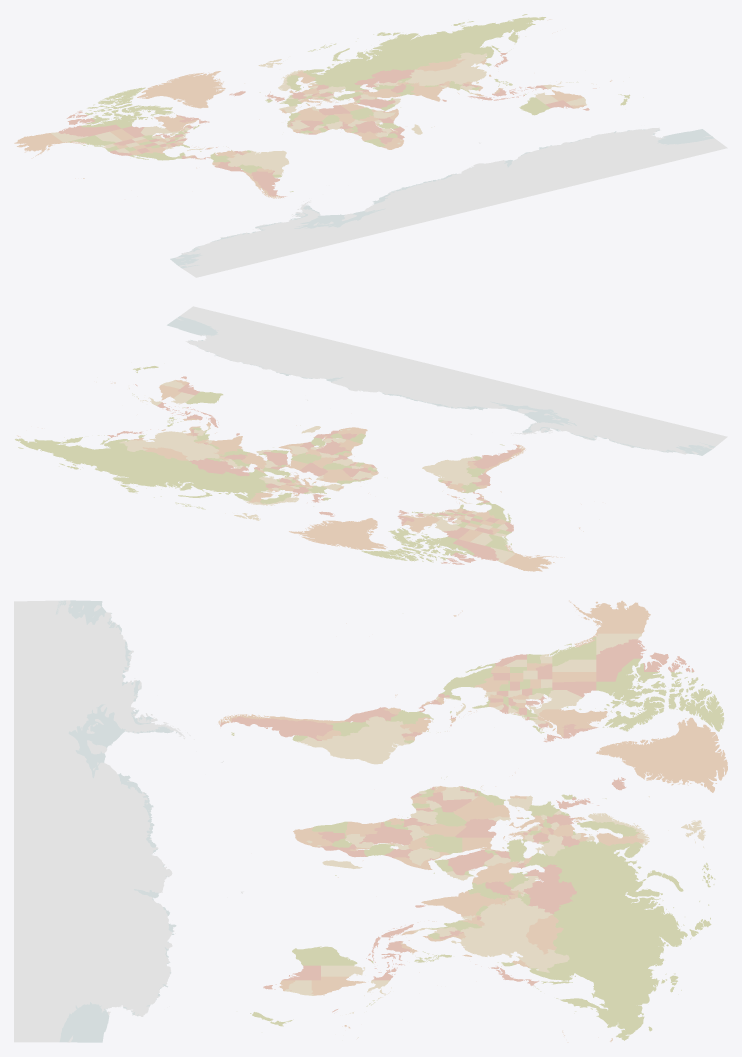
File: world.fbx
The picture shows the model from 3 angles, top to bottom: view 1: azimuth 30°, elevation 25°; view 2: azimuth 150°, elevation 25°; view 3: azimuth 270°, elevation 25°; orthographic projection. The views are drawn at different scales.
Parts seen in each view (by area): view 1: path3210, path1442, path14, path2514, path2898, path2786, path2986, path2906, path570, path2194, path3202; view 2: path3210, path1442, path14, path2514, path2898, path2786, path2986, path2906, path570, path2194, path3202; view 3: path3210, path1442, path14, path2514, path2786, path2898, path2986, path2906, path570, path2194, path3202, path2354 (+9 smaller).
Part boxes in pixels (bbox=[...]): path3210: bbox=[176, 127, 727, 277]; path1442: bbox=[303, 17, 545, 91]; path14: bbox=[170, 129, 714, 268]; path2514: bbox=[137, 71, 225, 108]; path2898: bbox=[81, 87, 176, 128]; path2786: bbox=[405, 52, 487, 85]; path2986: bbox=[226, 150, 289, 175]; path2906: bbox=[58, 110, 121, 136]; path570: bbox=[14, 19, 557, 158]; path2194: bbox=[354, 69, 414, 87]; path3202: bbox=[251, 170, 286, 197]; path3210: bbox=[176, 306, 727, 454]; path1442: bbox=[15, 437, 268, 500]; path14: bbox=[167, 316, 715, 455]; path2514: bbox=[289, 518, 387, 549]; path2898: bbox=[361, 525, 474, 562]; path2786: bbox=[119, 430, 219, 460]; path2986: bbox=[422, 456, 481, 485]; path2906: bbox=[441, 539, 498, 564]; path570: bbox=[17, 428, 564, 571]; path2194: bbox=[189, 458, 249, 476]; path3202: bbox=[468, 444, 521, 469]; path3210: bbox=[14, 600, 196, 1042]; path1442: bbox=[524, 840, 687, 1040]; path14: bbox=[55, 600, 176, 1042]; path2514: bbox=[596, 717, 727, 792]; path2786: bbox=[451, 897, 569, 972]; path2898: bbox=[563, 658, 724, 731]; path2986: bbox=[296, 716, 412, 764]; path2906: bbox=[596, 639, 694, 681]; path570: bbox=[562, 600, 650, 1042]; path2194: bbox=[522, 864, 576, 913]; path3202: bbox=[220, 716, 333, 740]; path2354: bbox=[421, 891, 503, 925].
Size of the model in its own units: 24.46 by 7.29e-07 by 16.68.
